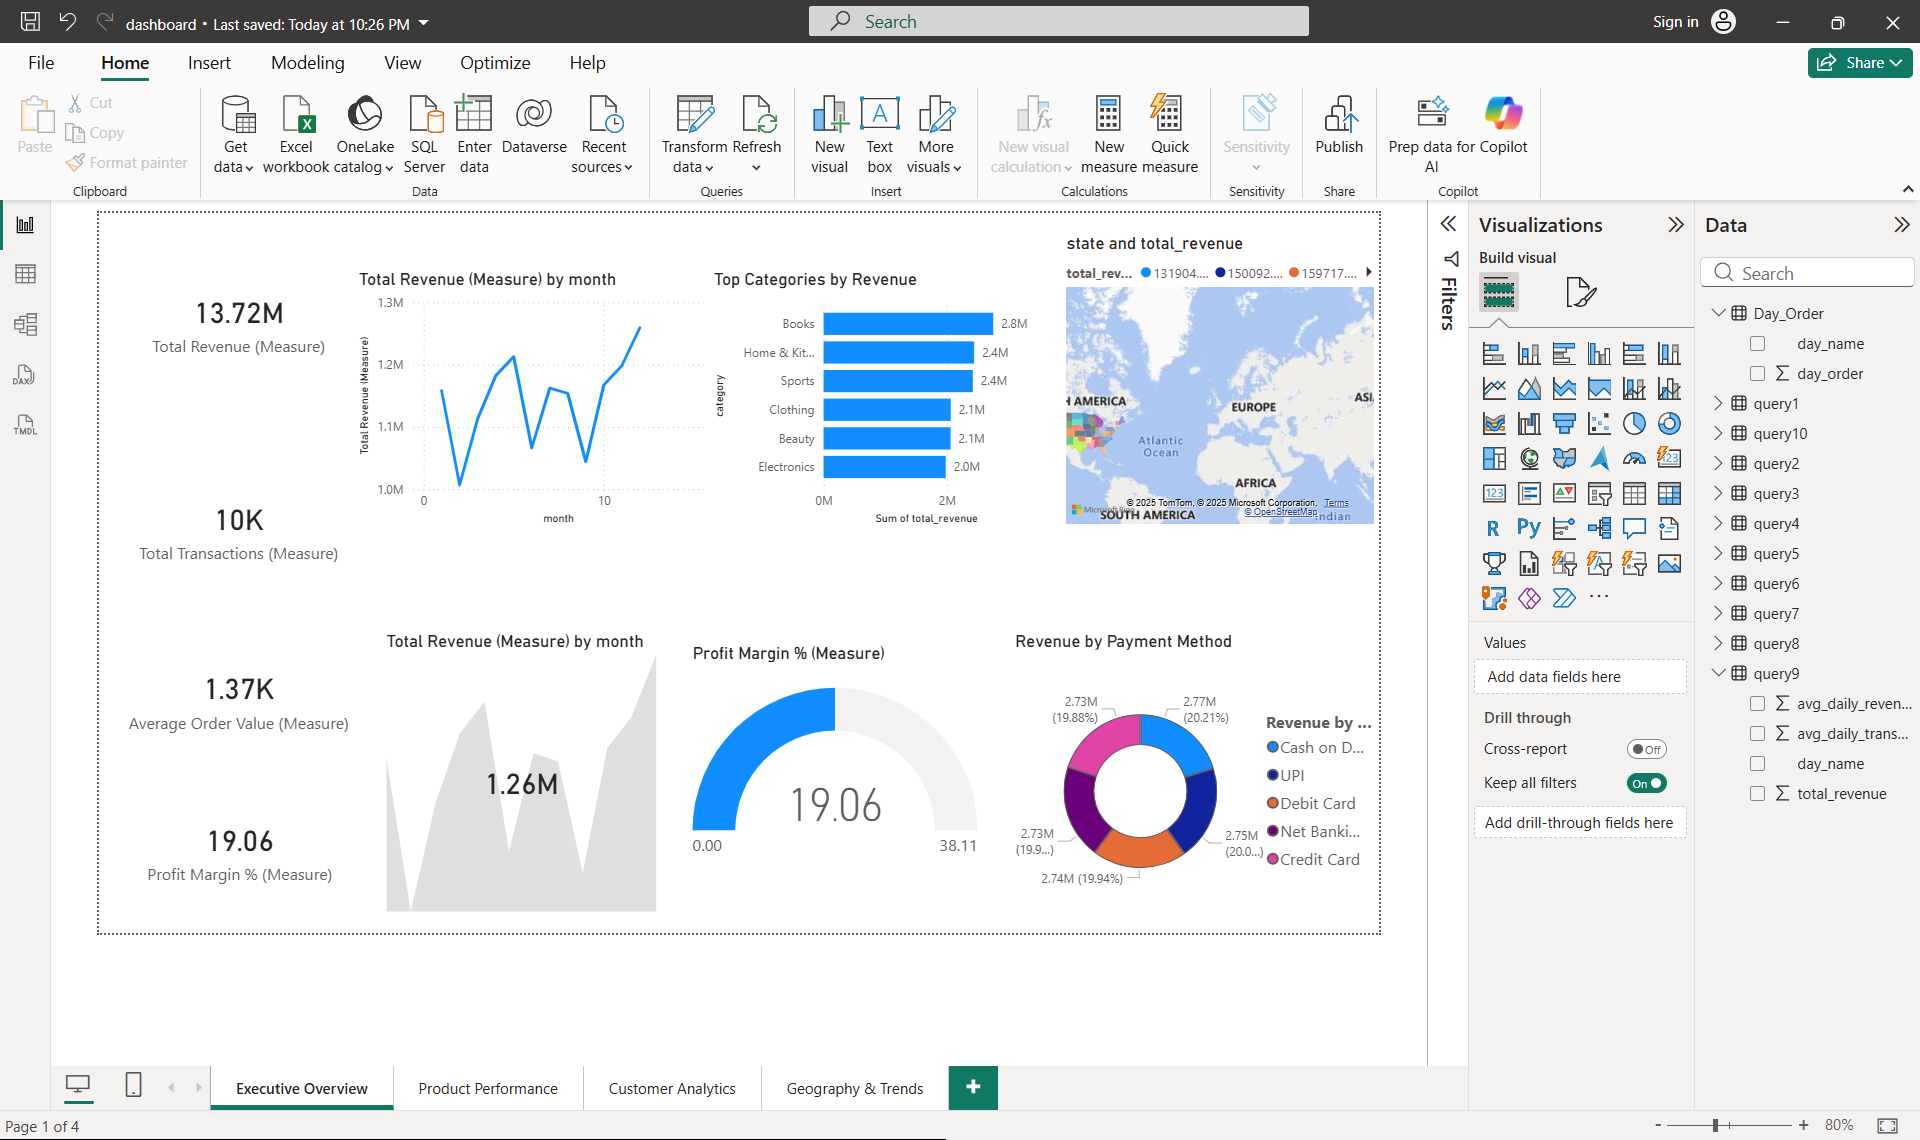

Layout of this report page (visuals, bound fields, positions):
{"tool":"powerbi","page":{"name":"Executive Overview","canvas":[1280,720],"ordinal":0},"visuals":[{"type":"card","fields":{"Values":["query2.Total Revenue (Measure)"]},"box":[0,0.9,280,214.5],"z":0},{"type":"card","fields":{"Values":["query2.Total Transactions (Measure)"]},"box":[0,214,280,204],"z":1000},{"type":"card","fields":{"Values":["query2.Average Order Value (Measure)"]},"box":[1,400,280,170],"z":2000},{"type":"card","fields":{"Values":["query4.Profit Margin % (Measure)"]},"box":[0,543,282,168],"z":3000},{"type":"lineChart","fields":{"Y":["query2.Total Revenue (Measure)"],"Category":["query2.month"]},"box":[255,30,355,260],"z":4000},{"type":"clusteredBarChart","title":"Top Categories by Revenue","fields":{"Category":["query4.category"],"Y":["Sum(query4.total_revenue)"]},"box":[610,39,335,260],"z":5000},{"type":"donutChart","title":"Revenue by Payment Method","fields":{"Category":["query5.payment_method"],"Y":["Sum(query5.total_revenue)"]},"box":[911,400,369,302],"z":6000},{"type":"gauge","fields":{"Y":["query4.Profit Margin % (Measure)"]},"box":[610,400,295,245],"z":7000},{"type":"kpi","fields":{"TrendLine":["query2.month"],"Indicator":["query2.Total Revenue (Measure)"]},"box":[282,400,280,286],"z":8000},{"type":"filledMap","fields":{"Category":["query6.state"],"Series":["query6.total_revenue"]},"box":[933.3,21.1,346.7,295.6],"z":9000}]}

Visuals, with their boxes on the page's 1280x720 design canvas (x1, y1, x2, y2). These are canvas units, not pixel positions in the 1920x1140 screenshot, which may show the page scaled, cropped or inside an application window:
card - query2.Total Revenue (Measure): 0/1/280/215
card - query2.Total Transactions (Measure): 0/214/280/418
card - query2.Average Order Value (Measure): 1/400/281/570
card - query4.Profit Margin % (Measure): 0/543/282/711
lineChart - query2.Total Revenue (Measure) x query2.month: 255/30/610/290
"Top Categories by Revenue" clusteredBarChart: 610/39/945/299
"Revenue by Payment Method" donutChart: 911/400/1280/702
gauge - query4.Profit Margin % (Measure): 610/400/905/645
kpi - query2.month x query2.Total Revenue (Measure): 282/400/562/686
filledMap - query6.state x query6.total_revenue: 933/21/1280/317
